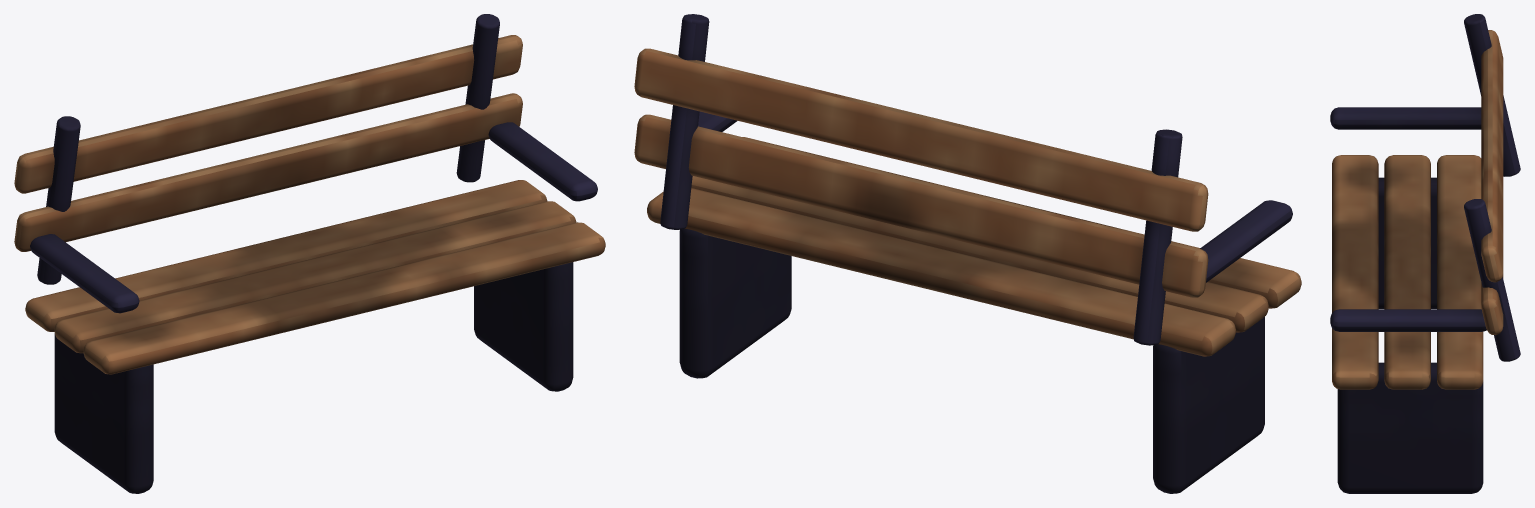
File: Bench.fbx
3 views of the same model, side by side, from view 1: azimuth 30°, elevation 25°; view 2: azimuth 150°, elevation 25°; view 3: azimuth 270°, elevation 25° (orthographic). The views are drawn at different scales.
Parts seen in each view (by area): view 1: Bench_Body; view 2: Bench_Body; view 3: Bench_Body.
Boxes of the visible parts, bbox=[...] form: Bench_Body: bbox=[14, 14, 605, 493]; Bench_Body: bbox=[634, 14, 1301, 493]; Bench_Body: bbox=[1330, 14, 1520, 493].
Size of the model in its own units: 1.8 by 1.1 by 0.6522.
